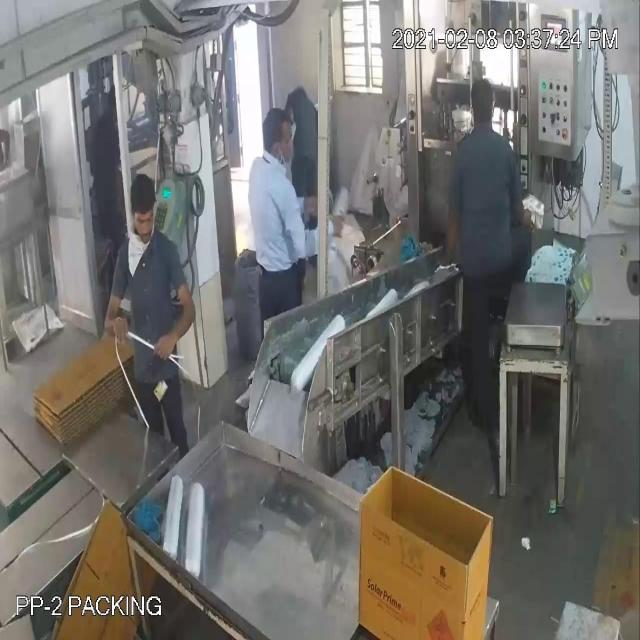No_Gloves: (38, 82, 180, 313)
